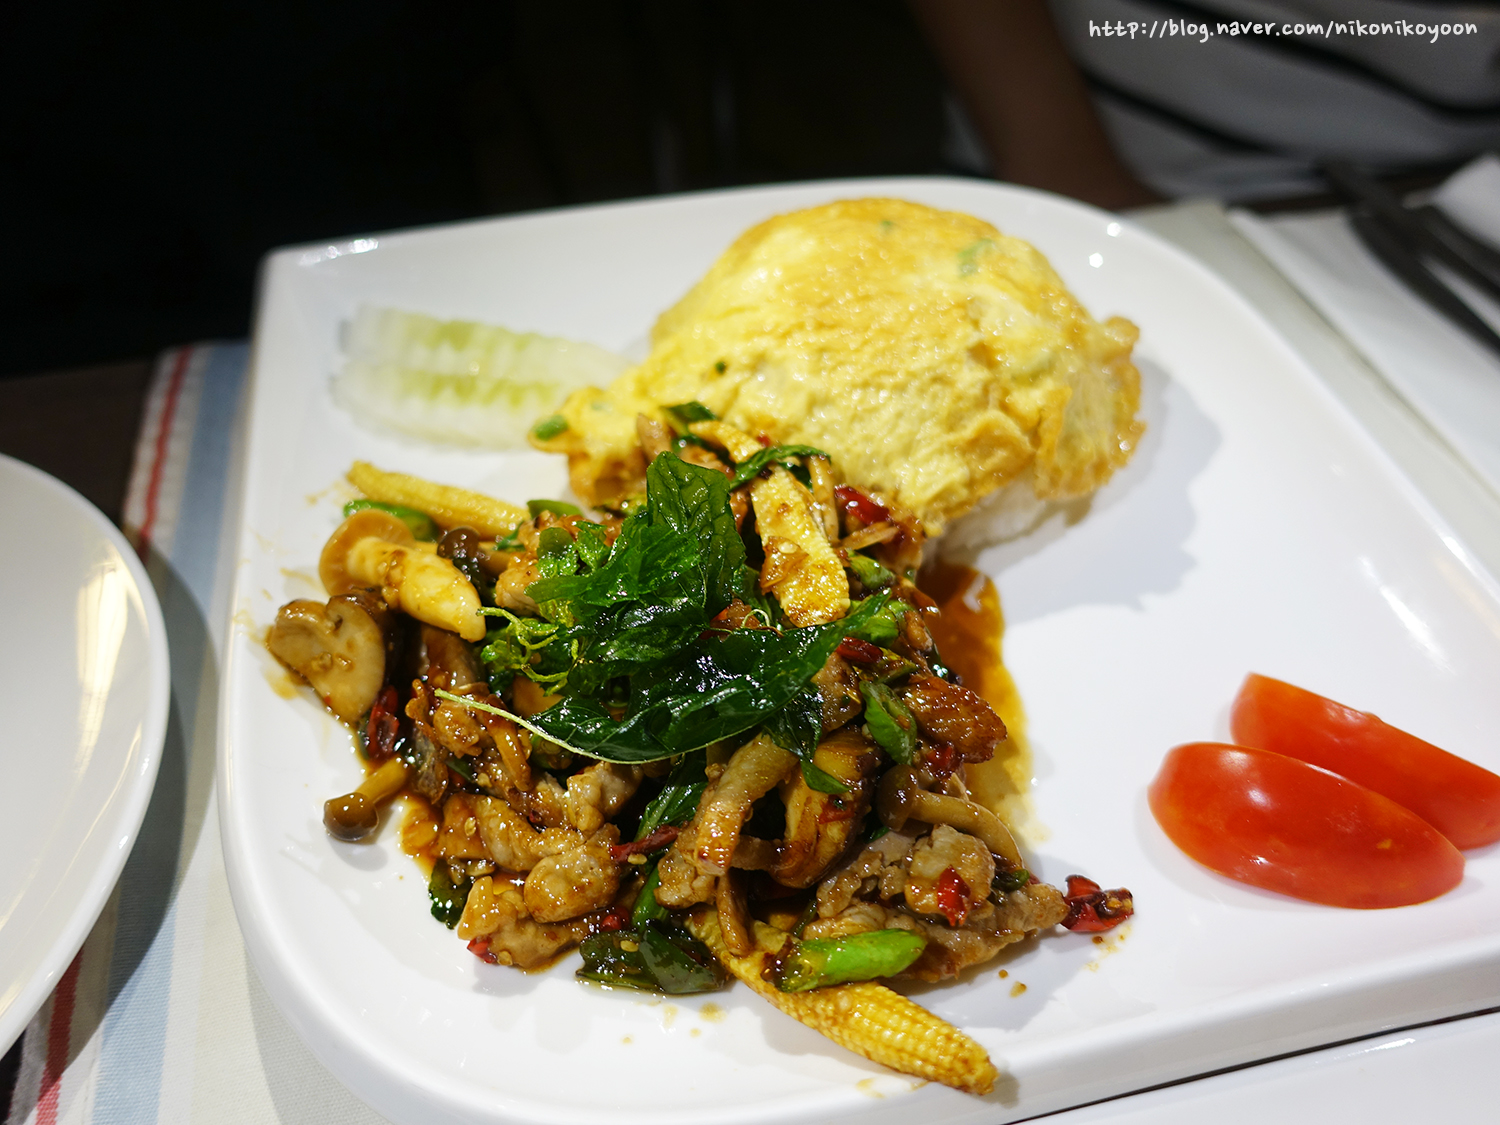fried egg: (641, 196, 1180, 515)
